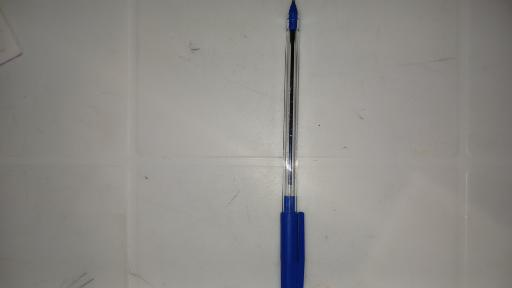pen: (280, 0, 303, 287)
